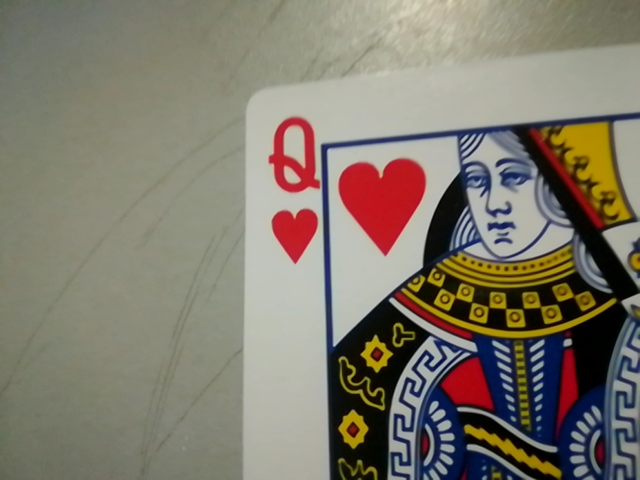hx q: (258, 109, 327, 269)
